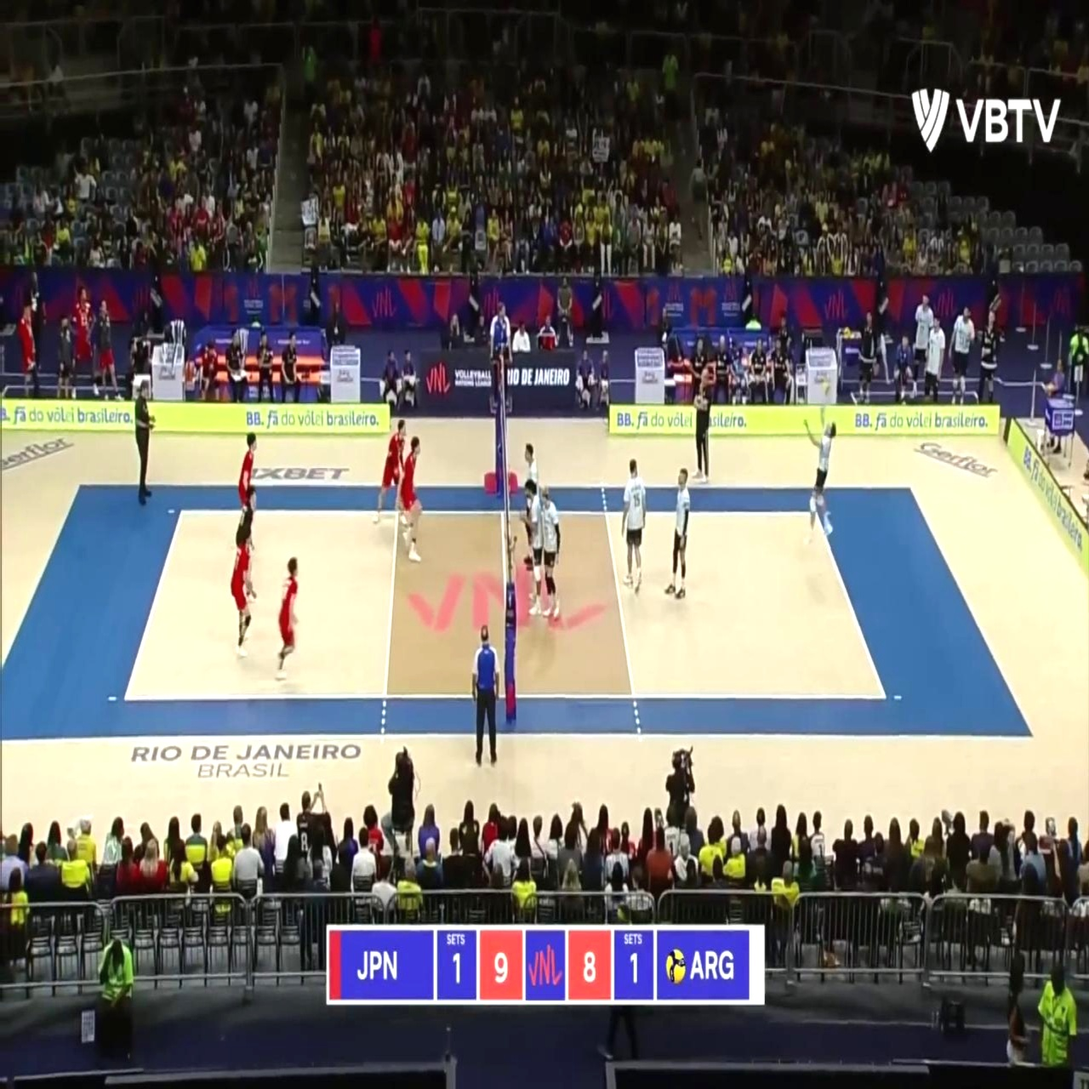ball: (823, 381, 831, 396)
